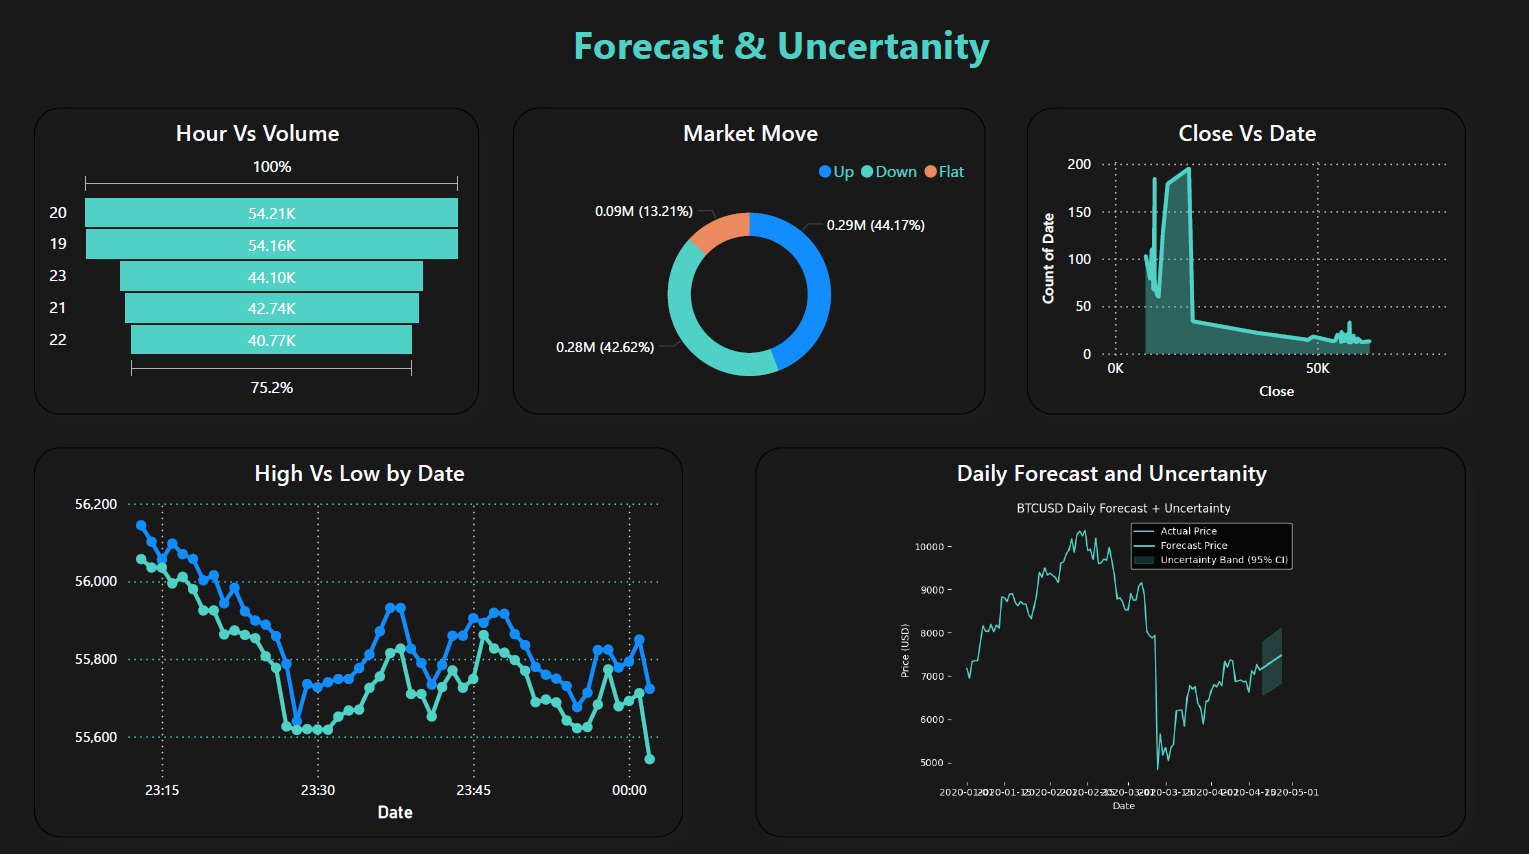

The page's visual inventory and layout, read from the dashboard file:
{"tool":"powerbi","page":{"name":"3. Forecast & Uncertanity ","canvas":[1280,720],"ordinal":2},"visuals":[{"type":"pythonVisual","title":"Daily Forecast and Uncertanity","fields":{"Values":["gemini_BTCUSD_2020_1min.Date","gemini_BTCUSD_2020_1min.Close"]},"box":[631.4,375.7,591.4,325.7],"z":0},{"type":"lineChart","title":"High Vs Low by Date","fields":{"Category":["gemini_BTCUSD_2020_1min.Date"],"Y":["Max(gemini_BTCUSD_2020_1min.High)","Max(gemini_BTCUSD_2020_1min.Low)"]},"box":[30,375.7,541.4,325.7],"z":1000},{"type":"areaChart","title":"Close Vs Date","fields":{"Category":["gemini_BTCUSD_2020_1min.Close"],"Y":["CountNonNull(gemini_BTCUSD_2020_1min.Date)"]},"box":[857.1,92.9,365.7,255.7],"z":2000},{"type":"donutChart","title":"Market Move","fields":{"Category":["gemini_BTCUSD_2020_1min.Market Move"],"Y":["CountNonNull(gemini_BTCUSD_2020_1min.Market Move)"]},"box":[428.6,92.9,394.3,255.7],"z":3000},{"type":"funnel","title":"Hour Vs Volume","fields":{"Y":["Sum(gemini_BTCUSD_2020_1min.Volume)"],"Category":["gemini_BTCUSD_2020_1min.Hour"]},"box":[30,92.9,371.4,255.7],"z":4000},{"type":"textbox","box":[102.9,12.9,1102.9,64.3],"z":5000}]}

Visuals, with their boxes in screenshot pixels (x1, y1, x2, y2), scaled from the page's 1280x720 canvas onto the 1529x854 screenshot:
"Daily Forecast and Uncertanity" pythonVisual: {"left": 754, "top": 446, "right": 1461, "bottom": 832}
"High Vs Low by Date" lineChart: {"left": 36, "top": 446, "right": 683, "bottom": 832}
"Close Vs Date" areaChart: {"left": 1024, "top": 110, "right": 1461, "bottom": 413}
"Market Move" donutChart: {"left": 512, "top": 110, "right": 983, "bottom": 413}
"Hour Vs Volume" funnel: {"left": 36, "top": 110, "right": 479, "bottom": 413}
textbox: {"left": 123, "top": 15, "right": 1440, "bottom": 92}
